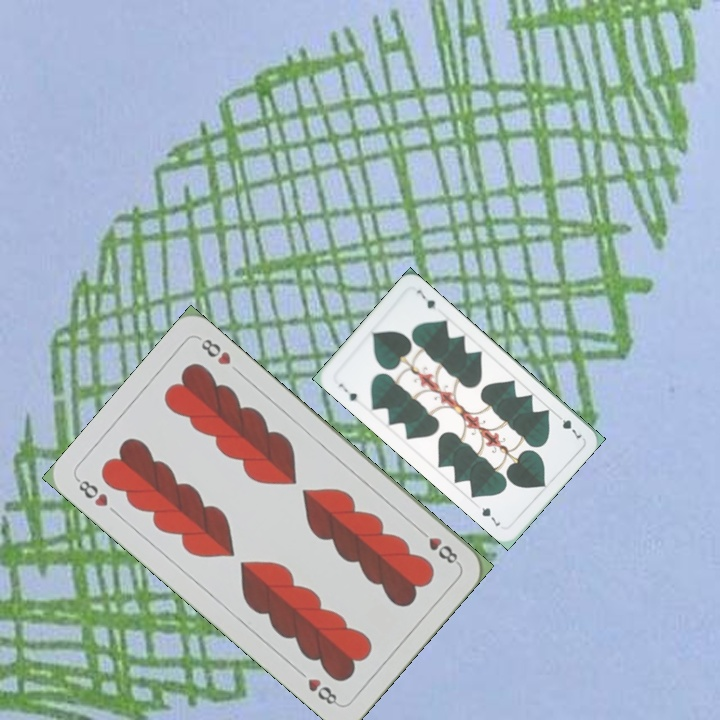G7: (552, 410, 584, 441), (334, 379, 360, 404)
H8: (413, 524, 462, 567), (72, 474, 111, 510)
